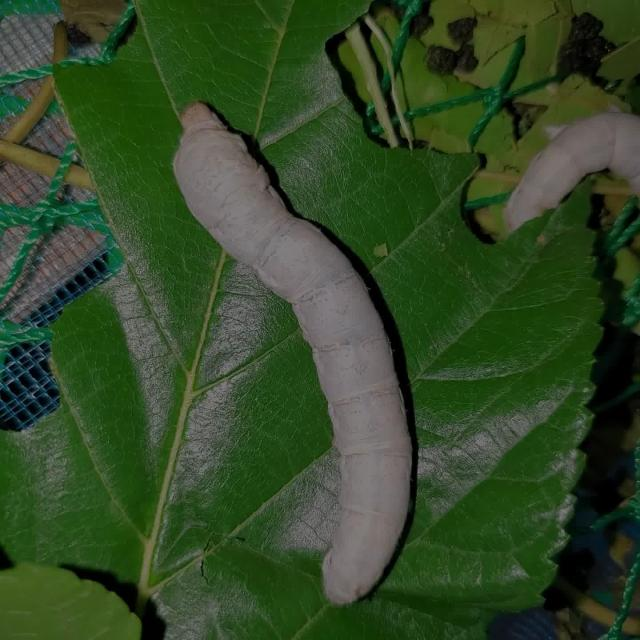Healthy: (161, 94, 419, 606)
